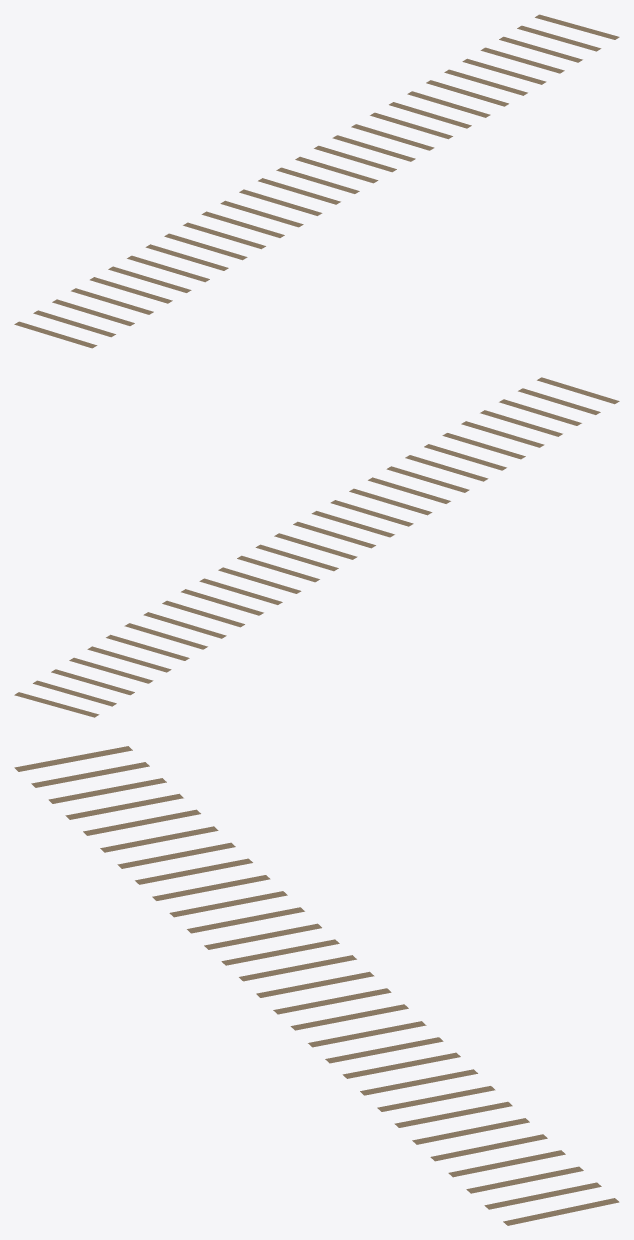
File: c_1629_17827_rail_sleeper.glb
The picture shows the model from 3 angles, top to bottom: view 1: azimuth 30°, elevation 25°; view 2: azimuth 210°, elevation 25°; view 3: azimuth 270°, elevation 25°; orthographic projection. The views are drawn at different scales.
Parts seen in each view (by area): view 1: geometry_0; view 2: geometry_0; view 3: geometry_0.
Part boxes in pixels (left/top/right/bottom): geometry_0: left=14, top=14, right=619, bottom=348; geometry_0: left=14, top=377, right=619, bottom=717; geometry_0: left=14, top=746, right=619, bottom=1225.
Size of the model in its own units: 21.55 by 0.1 by 11.6.
